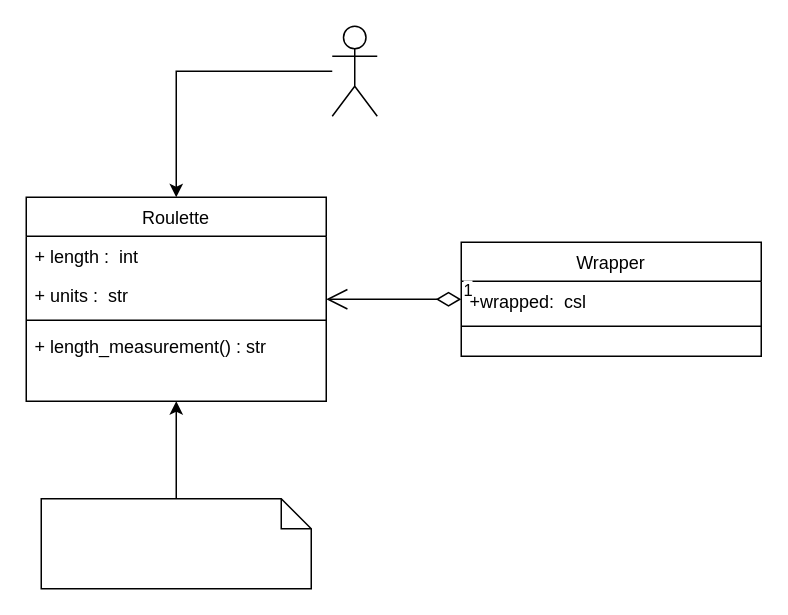
Some shapes in this 788 by 615 pixel diagram are drawn without their labels. The centre of each missing label's shape, as x and y in pixels:
Client: point (354, 70)
metrs -> inch return : length * 39.37": point (175, 543)
